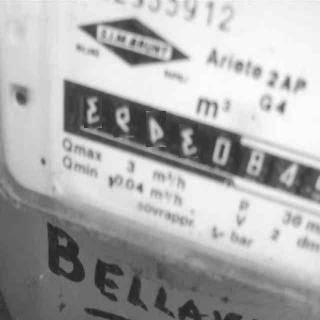1: (211, 133, 233, 168)
4: (179, 124, 198, 158), (84, 94, 102, 128)
5: (146, 112, 166, 148), (278, 159, 298, 192)
9: (246, 149, 266, 180)
:: (114, 103, 134, 138)
